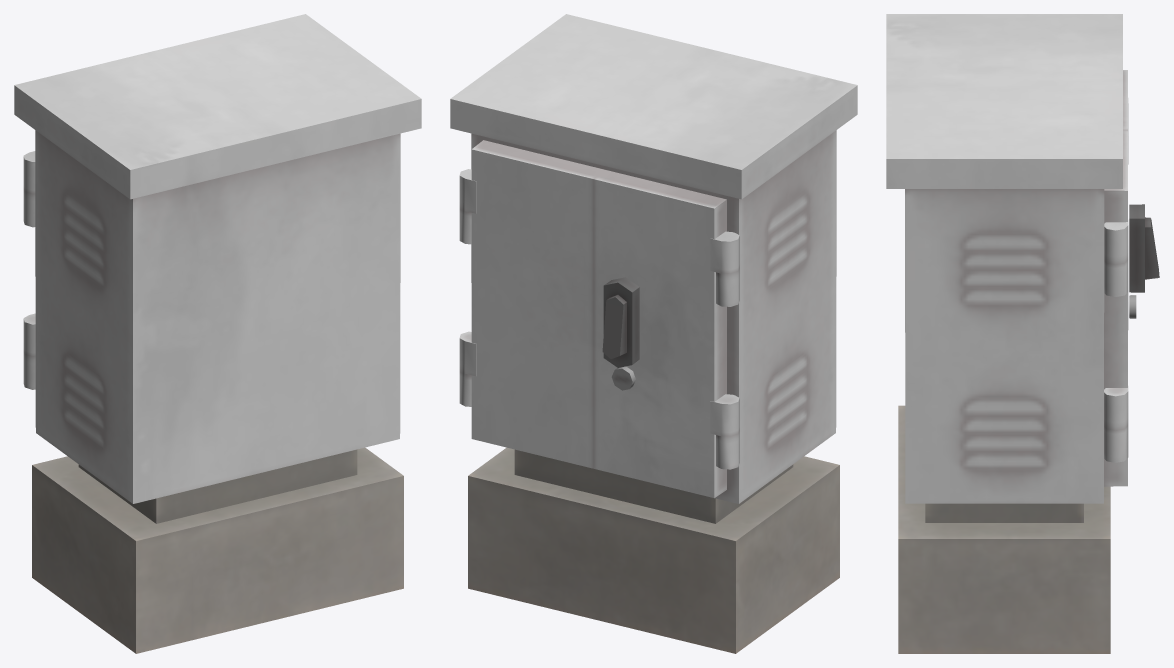
File: Pfb_ElectricBox__5.fbx
The picture shows the model from 3 angles, left to right: view 1: azimuth 30°, elevation 25°; view 2: azimuth 150°, elevation 25°; view 3: azimuth 270°, elevation 25°; orthographic projection.
Visible parts, largest first — view 1: Mat_ElectricBox_01_Dark; view 2: Mat_ElectricBox_01_Dark; view 3: Mat_ElectricBox_01_Dark.
Boxes of the visible parts, x1,y1,x2,y2 form: Mat_ElectricBox_01_Dark: (14,14,421,653); Mat_ElectricBox_01_Dark: (450,14,857,653); Mat_ElectricBox_01_Dark: (886,14,1159,653).
Bounding box in the file's own units: 0.6945 × 1.12 × 0.5529.
1 material, 1 textured.
